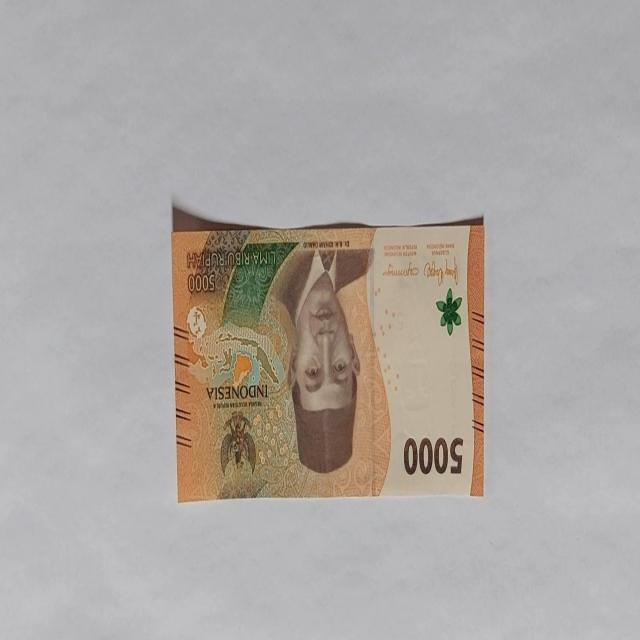lima ribu rupiah: (171, 206, 485, 502), (274, 247, 362, 474)
